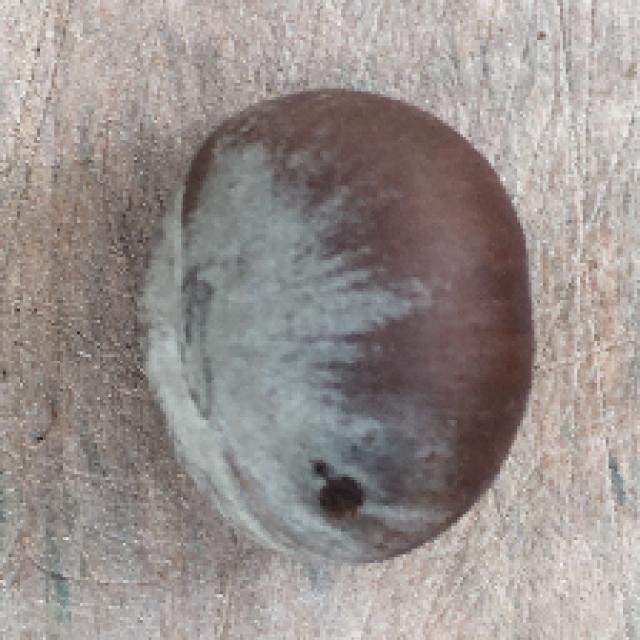damagedHazelnut: (136, 76, 544, 579)
